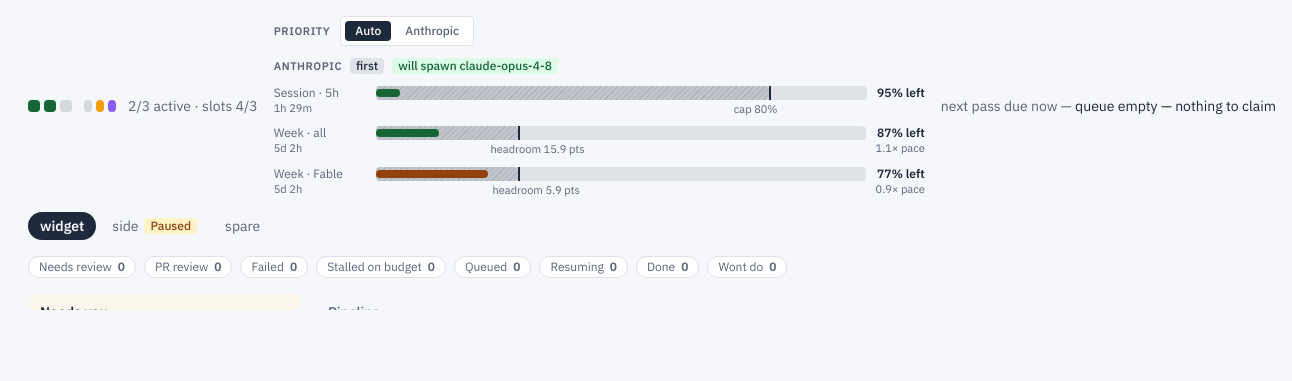
a tab click selects the project in the URL and shows only its work
What coordinates should you click on to do the following:
click the tab "side Paused"
I would click on:
 (155, 226)
Its box is [100,212,209,240].
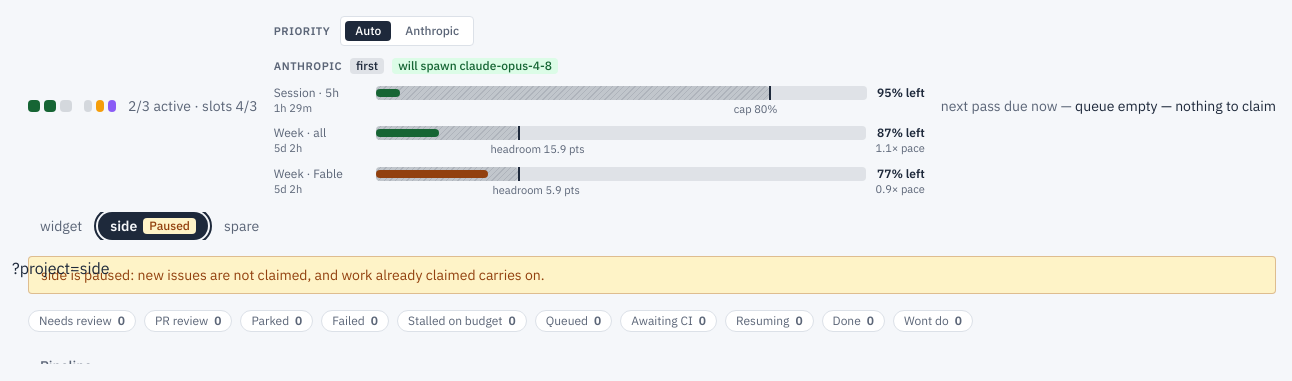
Check: the text "Add CSV export" is not shown
Check: the text with test id "search" reads "?project=side", box [12,258,110,278]
